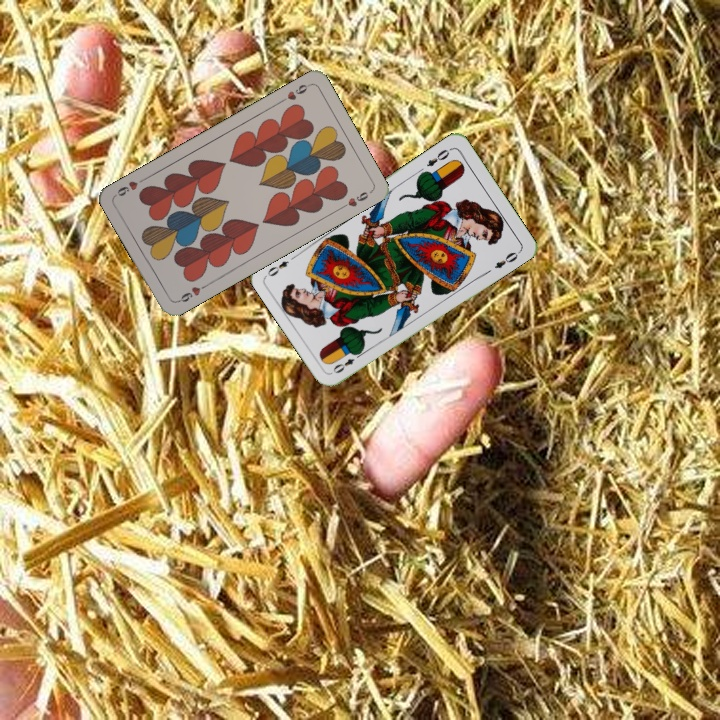EO: (329, 348, 365, 376), (422, 144, 454, 169)
H9: (276, 80, 313, 106), (172, 280, 210, 305)
